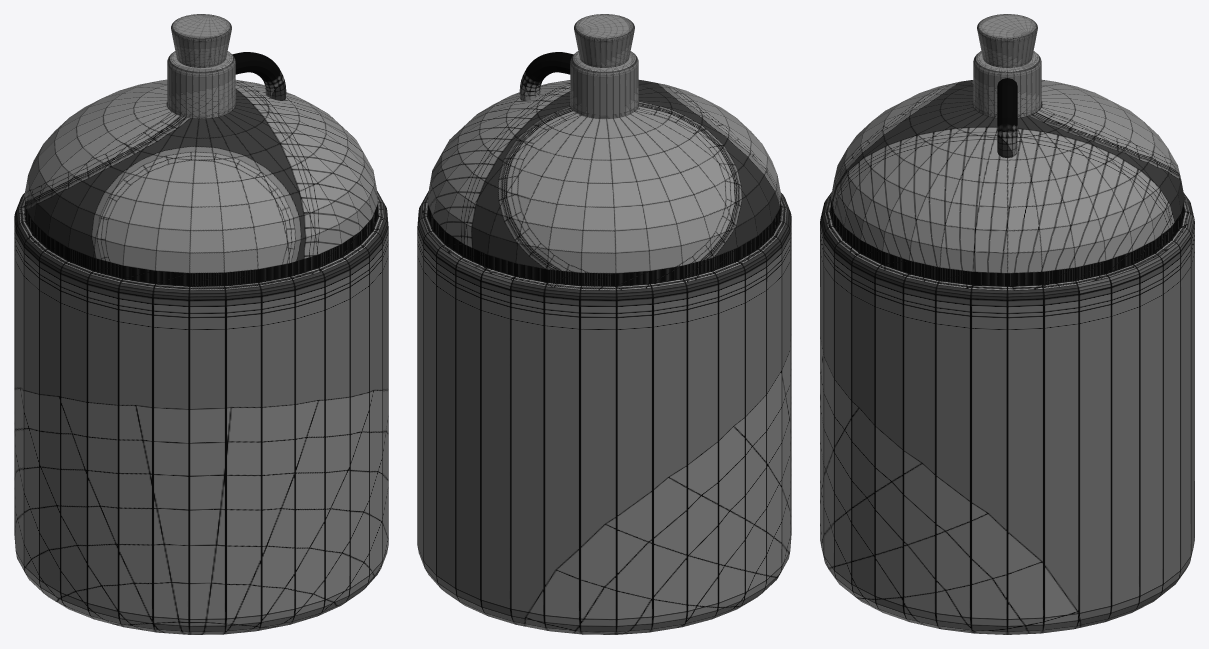
Rendered from 404proof.fbx.
The picture shows the model from 3 angles, left to right: view 1: azimuth 30°, elevation 25°; view 2: azimuth 150°, elevation 25°; view 3: azimuth 270°, elevation 25°; orthographic projection.
Visible parts, largest first — view 1: Cylinder; view 2: Cylinder; view 3: Cylinder.
Part boxes in pixels (x1=…): Cylinder: x1=14, y1=14, x2=388, y2=634; Cylinder: x1=417, y1=14, x2=791, y2=634; Cylinder: x1=820, y1=14, x2=1194, y2=634.
Size of the model in its own units: 180 by 286 by 180.
